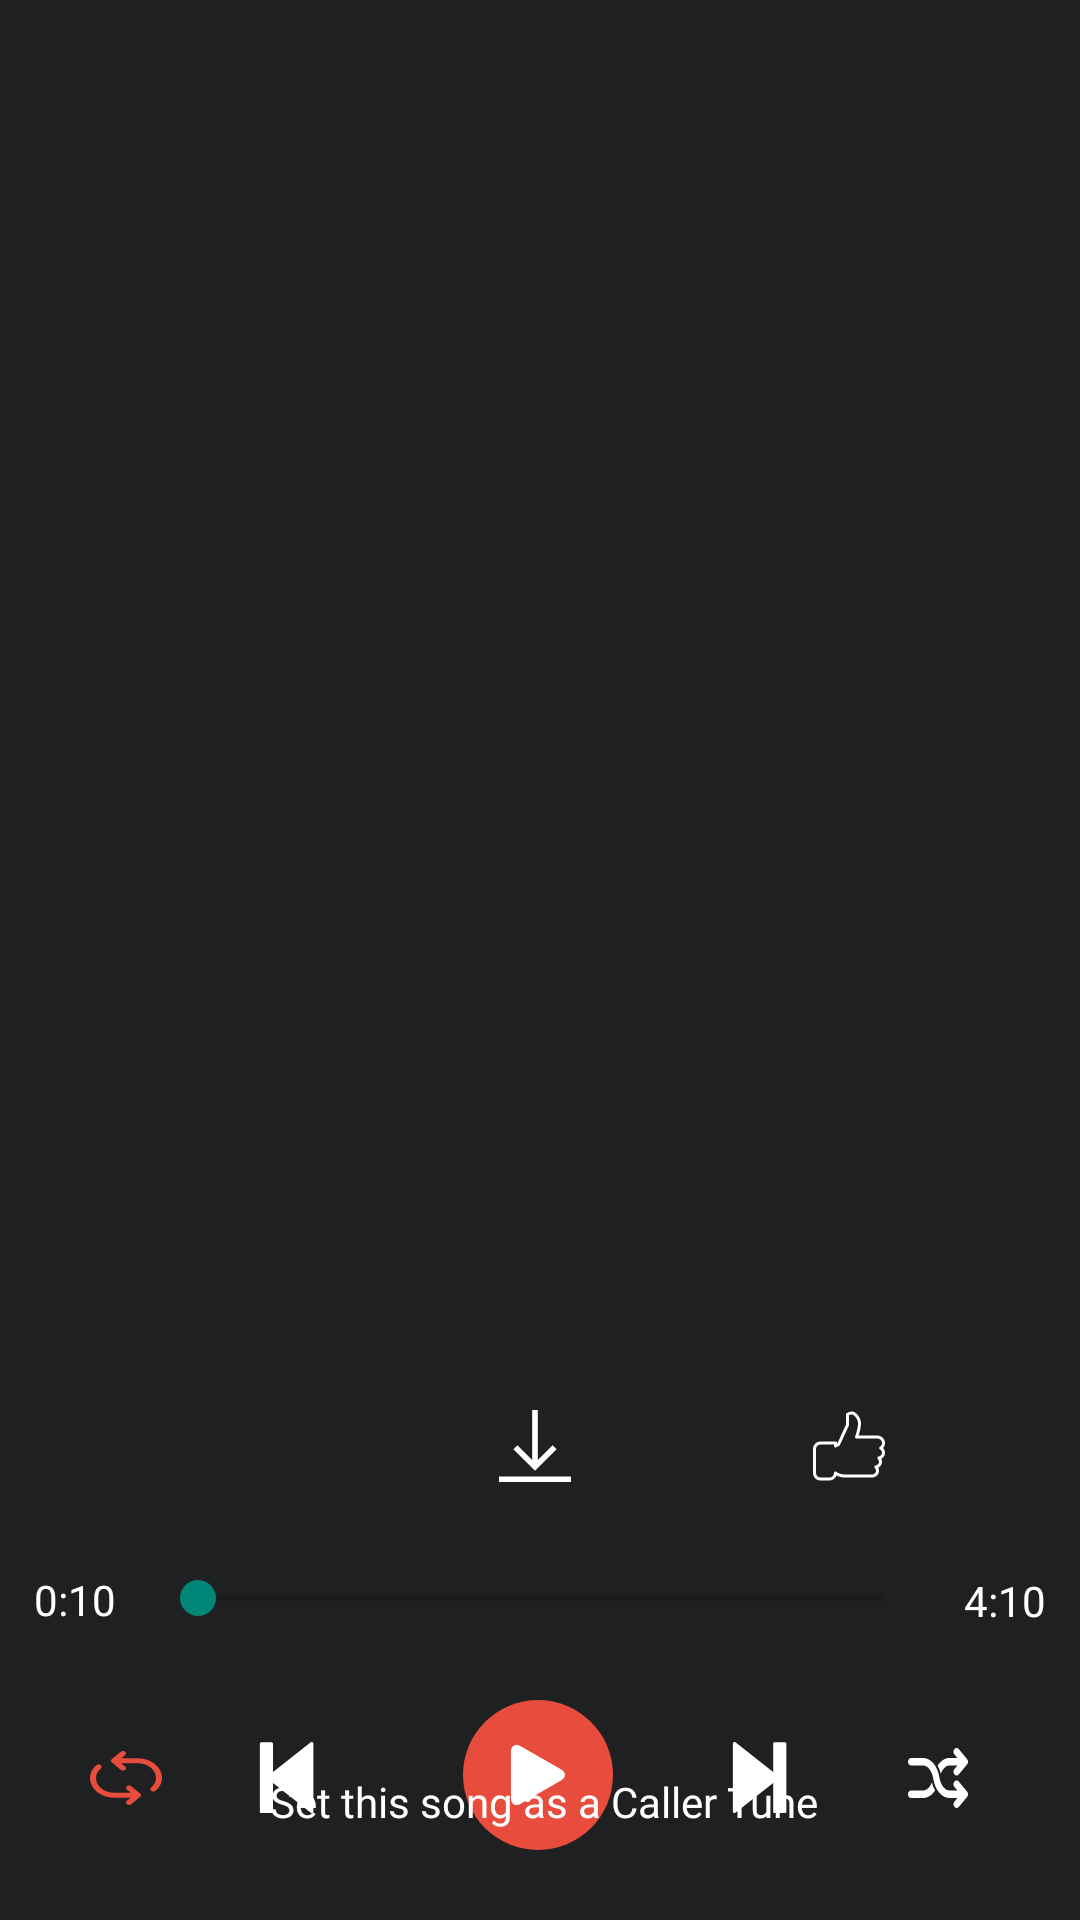

Named icons in this screenshot (1080px x 1920px) and their centers, point (x, y):
down: point (535, 1446)
like: point (849, 1446)
playbutton: point (538, 1775)
playnext: point (761, 1778)
playprev: point (287, 1778)
repeat: point (126, 1778)
shuffle: point (938, 1778)
